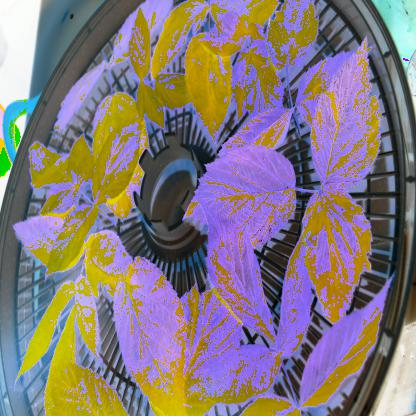Raspberry leaf: (181, 149, 297, 247), (309, 36, 380, 188), (301, 184, 374, 325)
